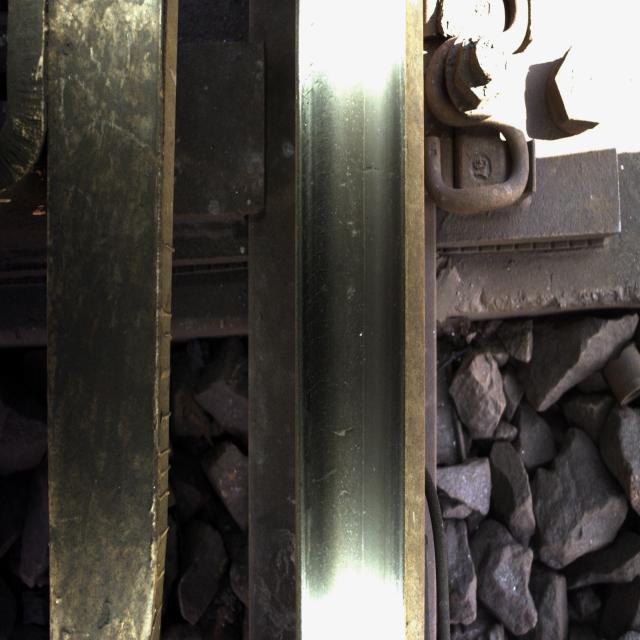break: (308, 56, 408, 634)
